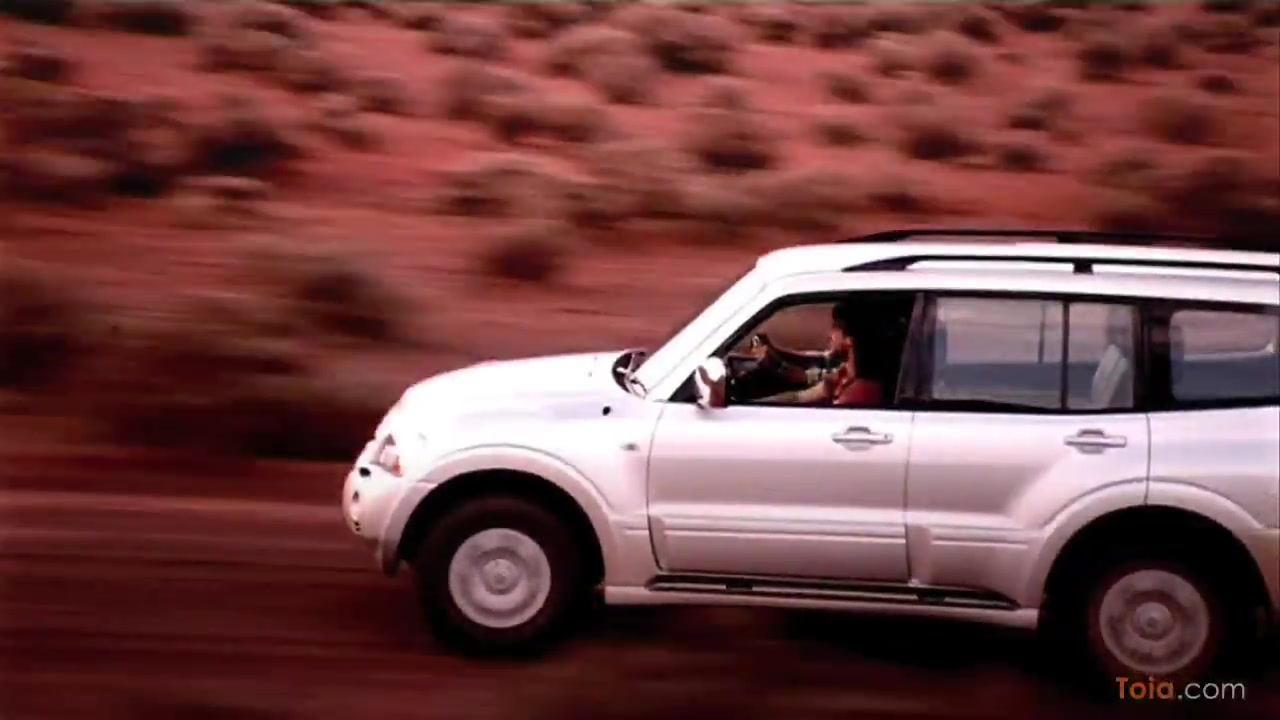car: (338, 220, 1280, 700)
